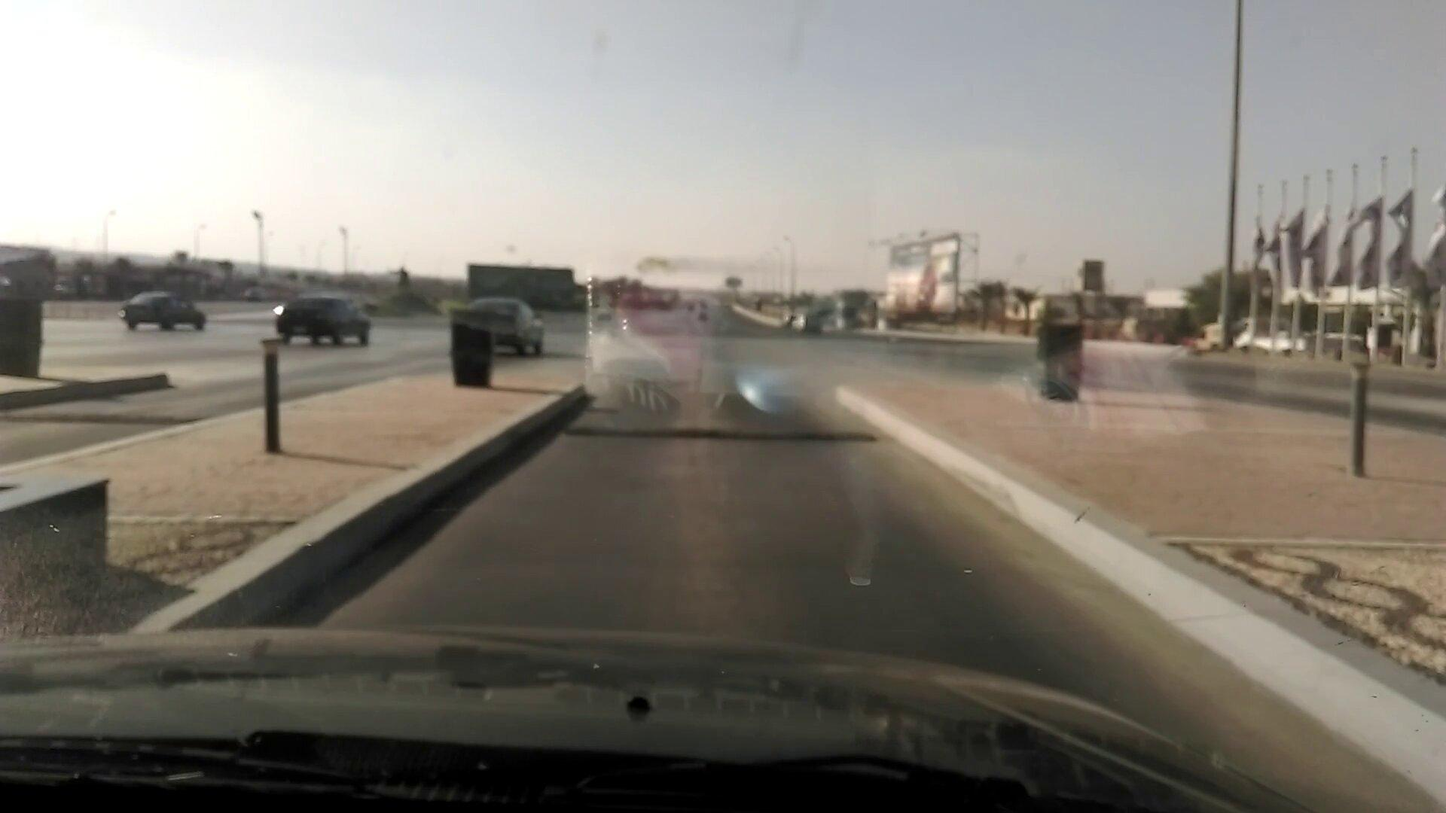Bump: (574, 418, 876, 448)
